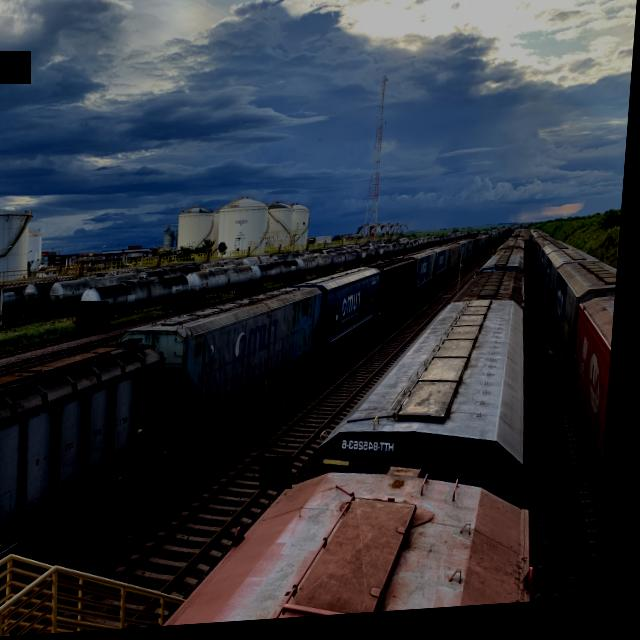hopper: (0, 325, 170, 597), (155, 267, 330, 472), (560, 295, 621, 609), (551, 262, 623, 391), (314, 260, 387, 363), (380, 255, 421, 317), (414, 250, 441, 300), (437, 248, 455, 289)
tank: (79, 267, 196, 340), (52, 270, 144, 317), (191, 265, 259, 311), (257, 257, 306, 297), (0, 280, 31, 331), (27, 279, 57, 318), (301, 253, 336, 286), (335, 251, 361, 276), (359, 248, 380, 270), (379, 248, 396, 265)
